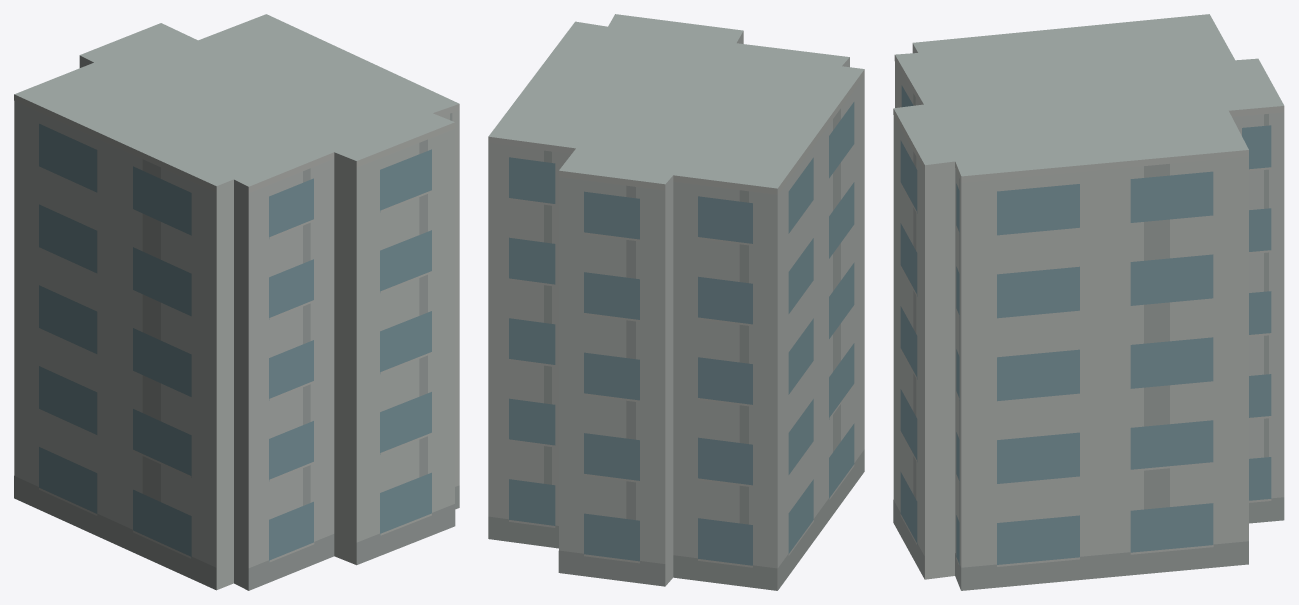
Rendered from residential-0c894493-0ccf-4007-aa6d-bd377c9a783b.glb.
The picture shows the model from 3 angles, left to right: view 1: azimuth 30°, elevation 25°; view 2: azimuth 150°, elevation 25°; view 3: azimuth 270°, elevation 25°; orthographic projection. The views are drawn at different scales.
Visible parts, largest first — view 1: residential-0c894493-0ccf-4007-aa6d-bd377c9a783b.tmp; view 2: residential-0c894493-0ccf-4007-aa6d-bd377c9a783b.tmp; view 3: residential-0c894493-0ccf-4007-aa6d-bd377c9a783b.tmp.
Part boxes in pixels (x1,y1,x2,y2): residential-0c894493-0ccf-4007-aa6d-bd377c9a783b.tmp: [14, 14, 459, 590]; residential-0c894493-0ccf-4007-aa6d-bd377c9a783b.tmp: [488, 14, 864, 590]; residential-0c894493-0ccf-4007-aa6d-bd377c9a783b.tmp: [893, 14, 1284, 590].
Bounding box in the file's own units: 12.82 × 15.25 × 13.05.
